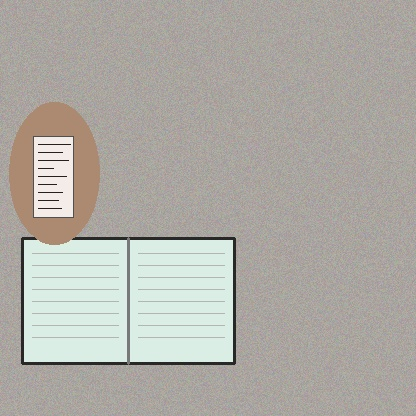book: (22, 238, 234, 363)
exam_chit: (33, 136, 73, 217)
